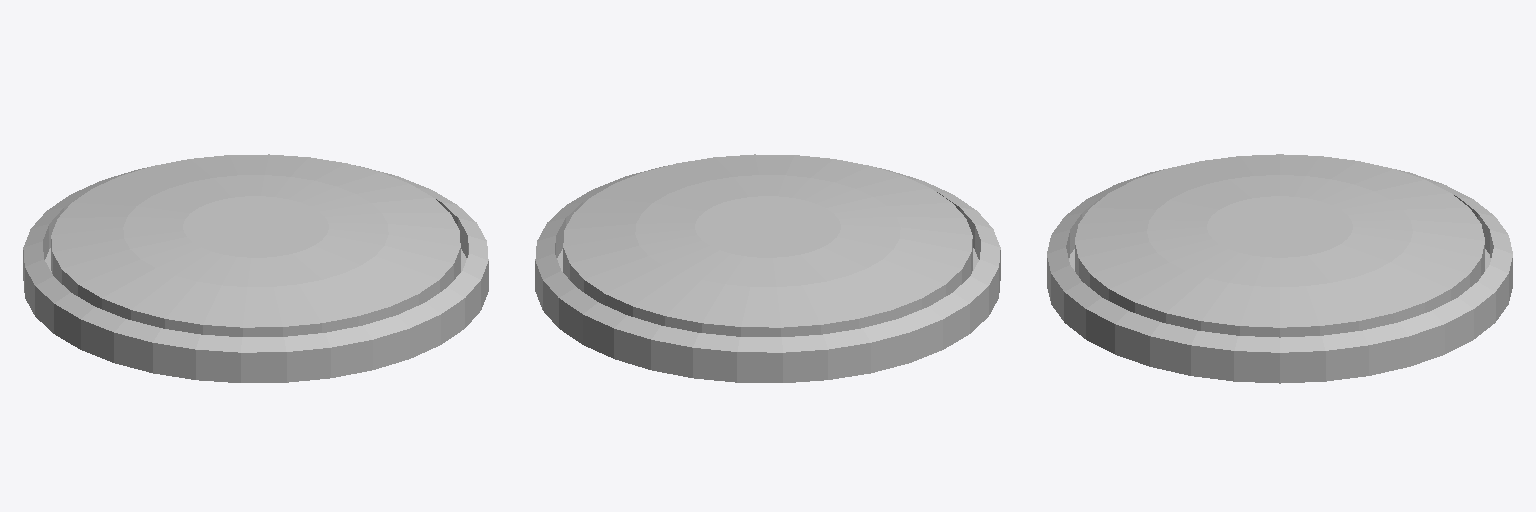
Rendered from housesp_049.obj.
3 views of the same model, side by side, from view 1: azimuth 30°, elevation 25°; view 2: azimuth 150°, elevation 25°; view 3: azimuth 270°, elevation 25° (orthographic).
Size of the model in its own units: 5.07 by 0.6969 by 5.08.